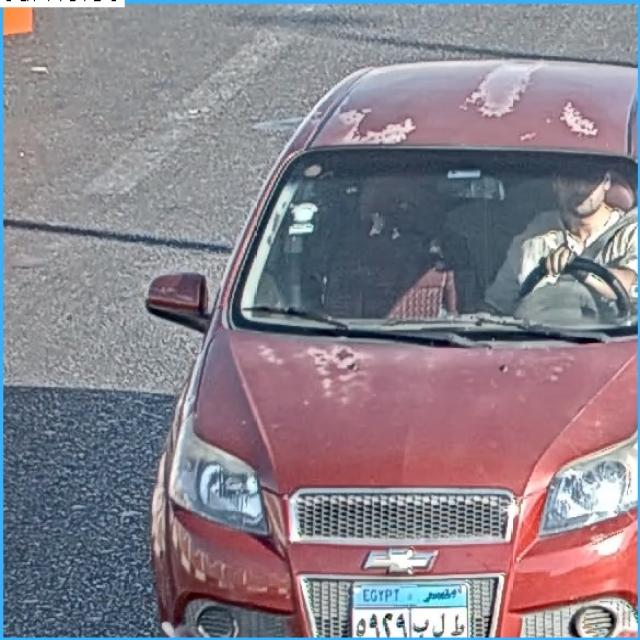windshield: (231, 155, 640, 337)
